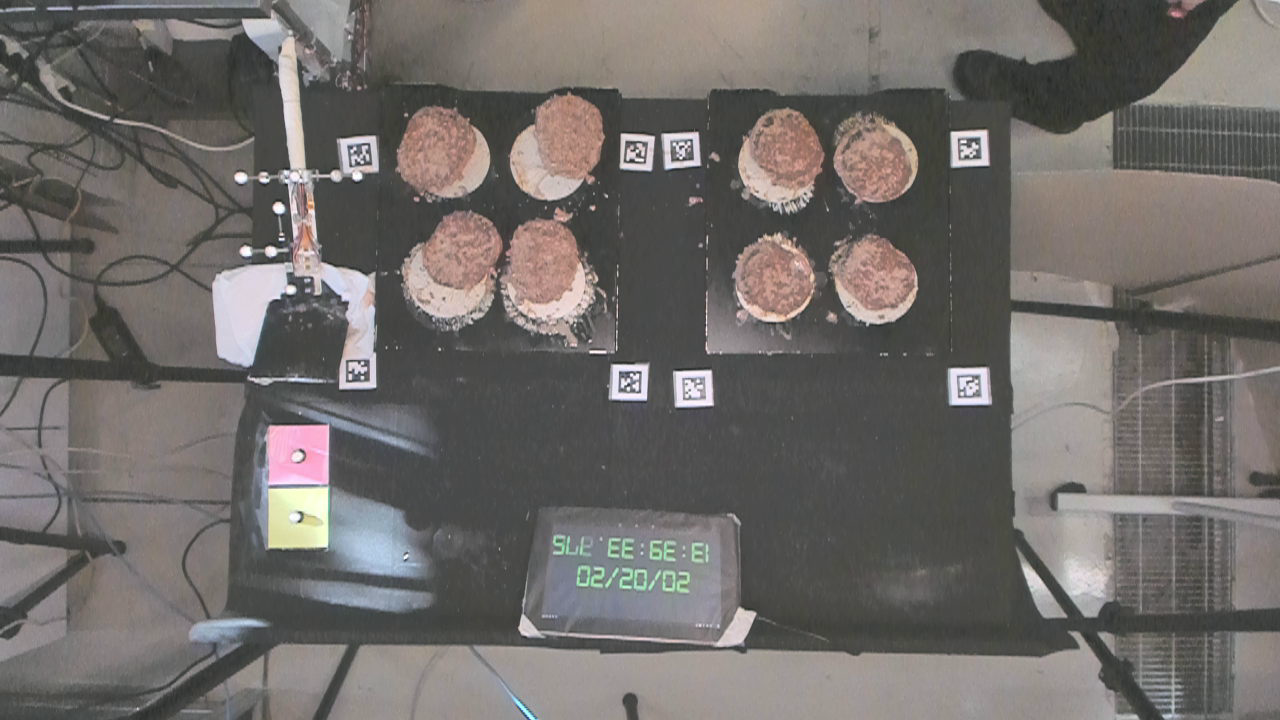hamburger: (395, 103, 477, 198), (833, 229, 918, 318), (746, 103, 826, 195), (730, 234, 816, 319), (420, 208, 504, 292), (530, 88, 607, 179), (831, 124, 916, 206), (507, 219, 579, 305)
marker: (265, 419, 332, 487)
